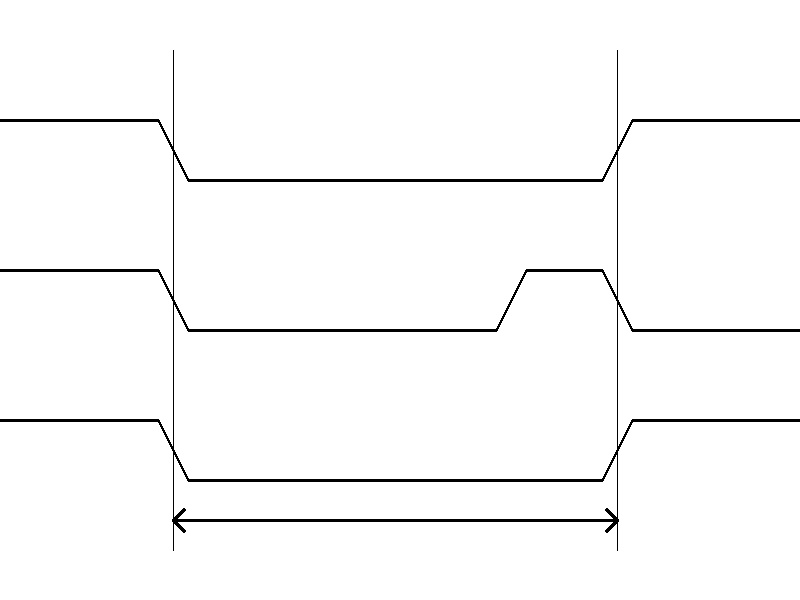double_arrow: (173, 505, 617, 535)
